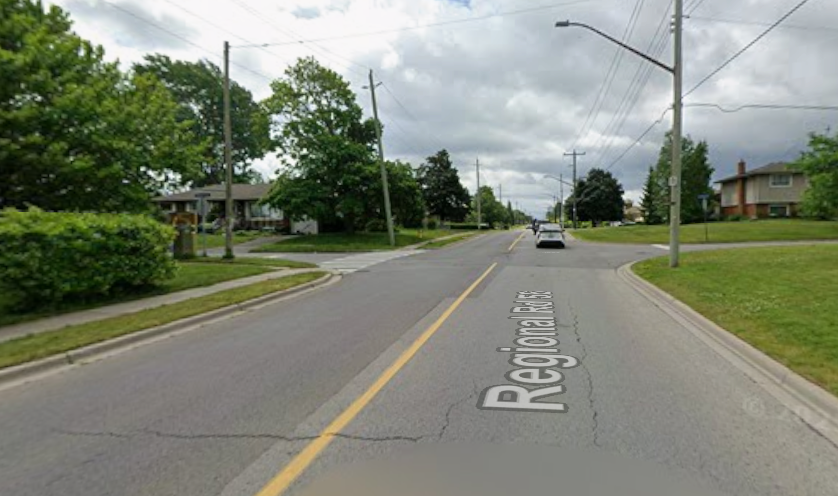cracks: (34, 423, 455, 454), (555, 300, 609, 452)
